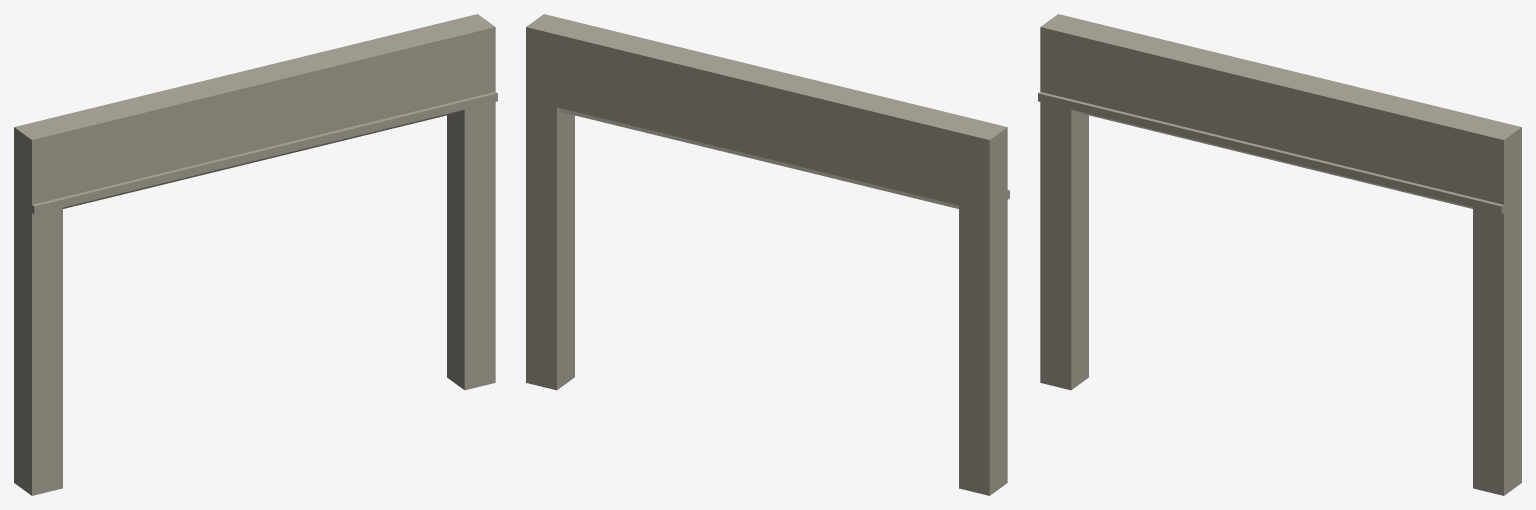
File: victorian_wall_display_window_1_top.fbx
The picture shows the model from 3 angles, left to right: view 1: azimuth 30°, elevation 25°; view 2: azimuth 150°, elevation 25°; view 3: azimuth 330°, elevation 25°; orthographic projection.
Parts seen in each view (by area): view 1: Cube.221; view 2: Cube.221; view 3: Cube.221.
Boxes of the visible parts, x1,y1,x2,y2 form: Cube.221: [14, 14, 497, 495]; Cube.221: [526, 14, 1009, 495]; Cube.221: [1038, 14, 1521, 495].
Bounding box in the file's own units: 300 × 220 × 22.5.
